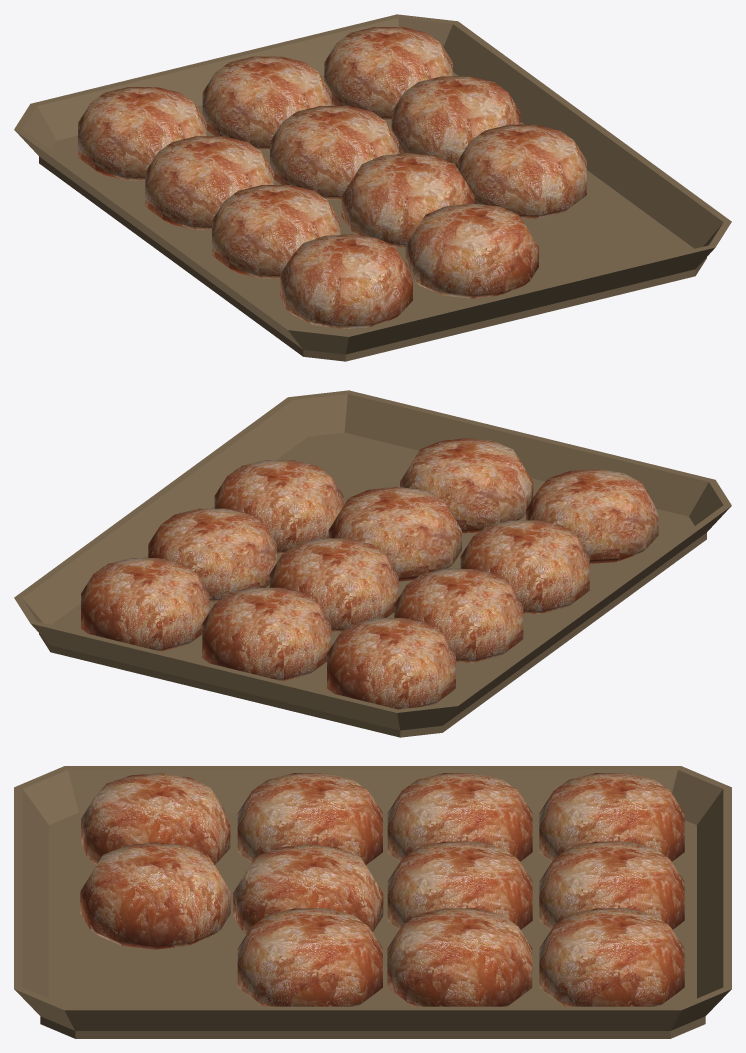
The model's file is buns.glb.
3 views of the same model, one above another, from view 1: azimuth 30°, elevation 25°; view 2: azimuth 150°, elevation 25°; view 3: azimuth 270°, elevation 25° (orthographic). The views are drawn at different scales.
Visible parts, largest first — view 1: buns; view 2: buns; view 3: buns.
Part boxes in pixels (<box>): buns: <box>14,14,731,361</box>; buns: <box>14,390,731,737</box>; buns: <box>14,766,731,1038</box>.
Bounding box in the file's own units: 0.4191 × 0.0568 × 0.5207.
Materials: 2 (1 with a texture image).
